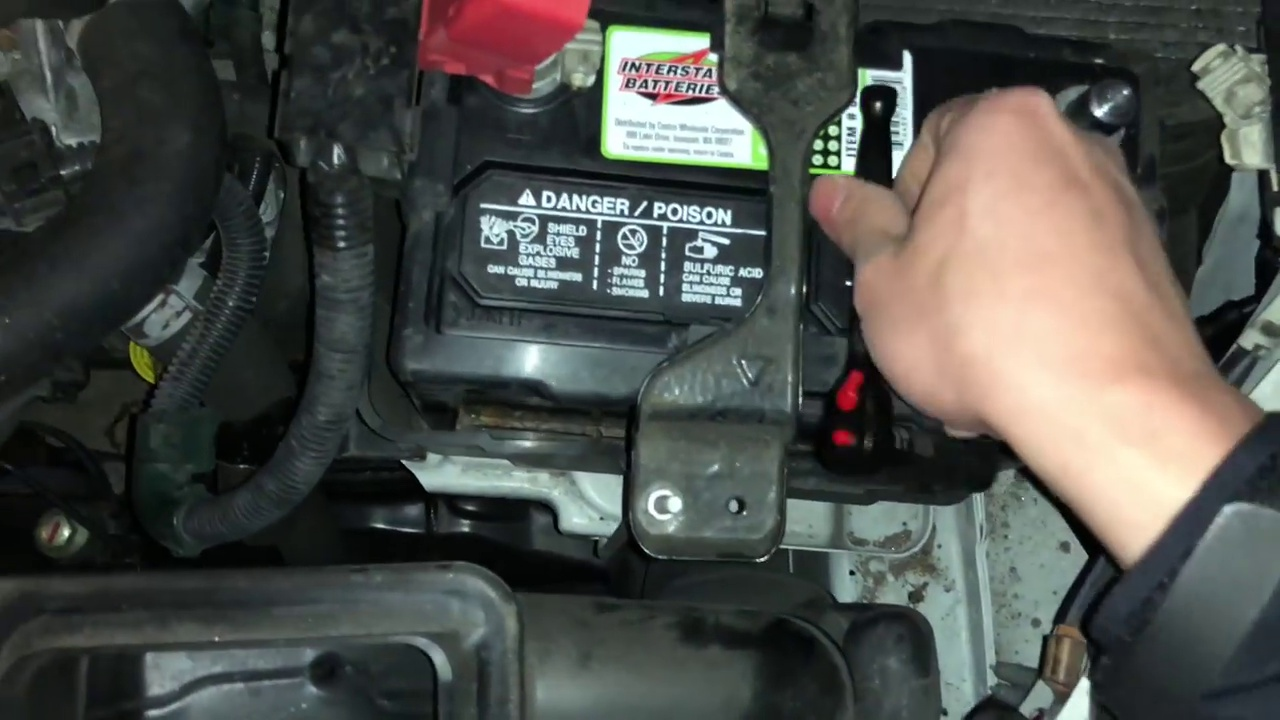battery: (427, 5, 1156, 404)
neg_disconnected: (1034, 41, 1170, 171)
neg_touched: (979, 51, 1150, 250)
pos_connected: (426, 9, 640, 129)
